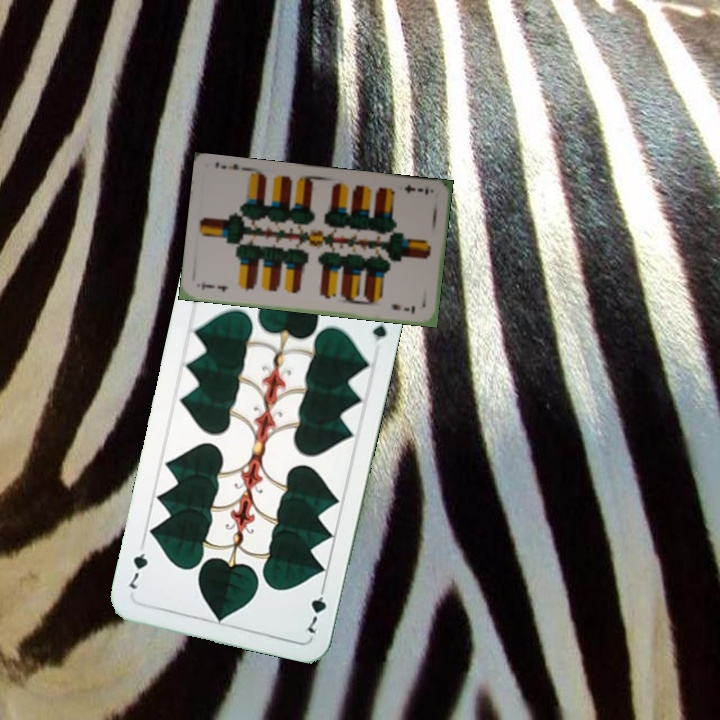E7: (197, 277, 231, 294), (400, 180, 431, 198)
G7: (303, 579, 329, 637)
